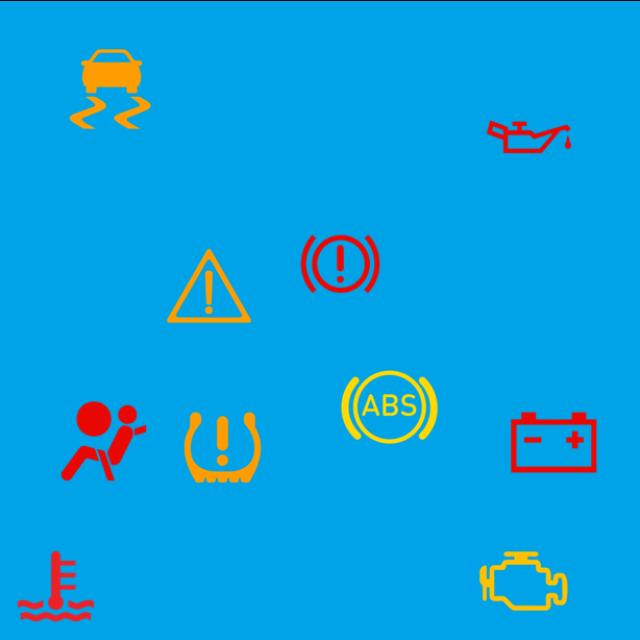Anti Lock Braking System: (337, 353, 442, 459)
Braking System Issue: (287, 210, 393, 316)
Charging System Issue: (501, 388, 607, 494)
Check Engine: (471, 527, 577, 633)
Electronic Stability Problem -ESP-: (57, 35, 163, 141)
Engine Overheating Warning Light: (3, 532, 109, 638)
Low Engine Oil Warning Light: (476, 83, 582, 189)
Low Tire Pressure Warning Light: (170, 394, 276, 499)
Master warning light: (156, 232, 262, 338)
SRS-Airbag: (50, 388, 156, 493)
